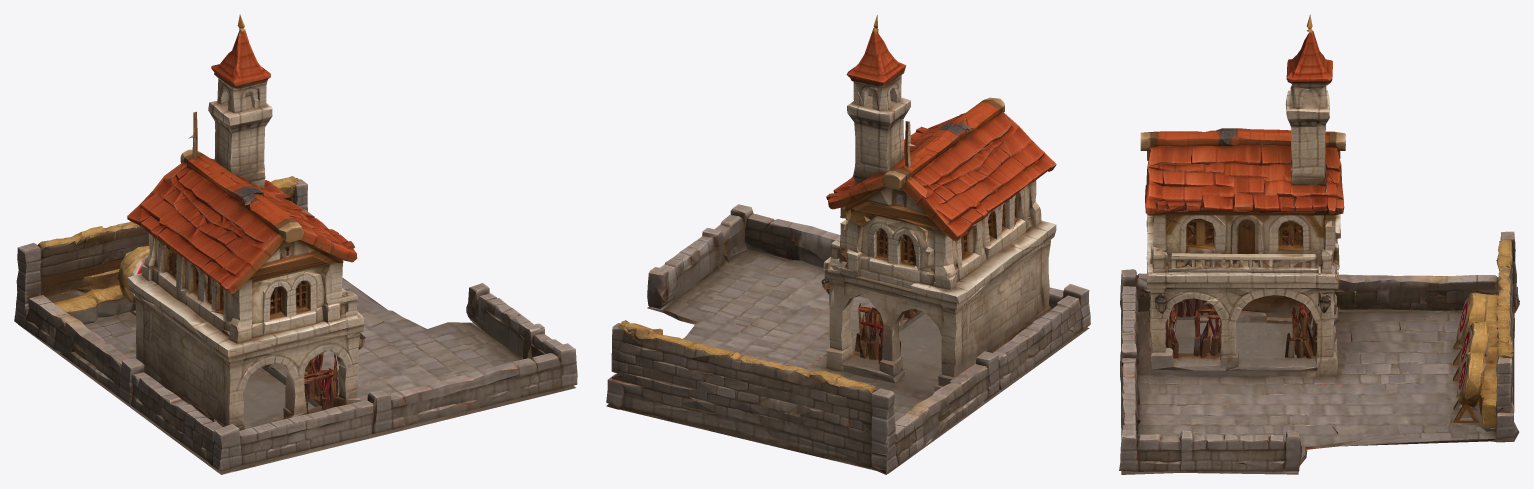
File: archery2.glb
3 renders of one model, left to right at view 1: azimuth 30°, elevation 25°; view 2: azimuth 150°, elevation 25°; view 3: azimuth 270°, elevation 25°, orthographic. The views are drawn at different scales.
Visible parts, largest first — view 1: Mesh_0; view 2: Mesh_0; view 3: Mesh_0.
Boxes of the visible parts, x1,y1,x2,y2 form: Mesh_0: (14, 14, 577, 474); Mesh_0: (606, 15, 1090, 474); Mesh_0: (1119, 14, 1519, 474).
Bounding box in the file's own units: 1.88 × 1.81 × 1.88.
Materials: 1 (1 with a texture image).
